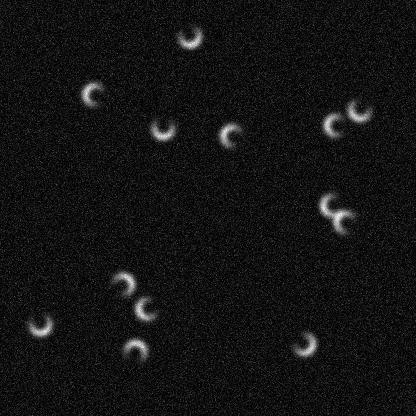Janus: (288, 328, 318, 358), (330, 207, 360, 237), (317, 189, 347, 219), (79, 79, 109, 109), (344, 94, 374, 124), (174, 20, 204, 50), (217, 120, 247, 150), (24, 308, 54, 338), (320, 110, 350, 140), (147, 112, 177, 142), (132, 293, 162, 323), (119, 336, 149, 366), (107, 269, 137, 299)
